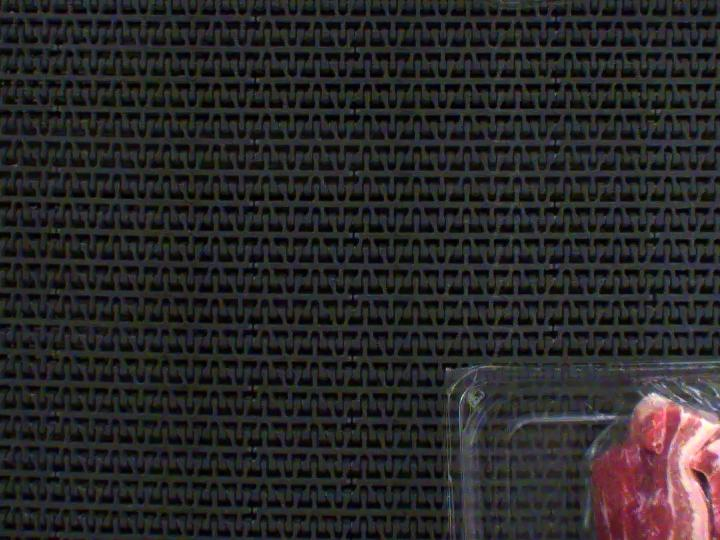unsealed: (572, 375, 720, 540)
